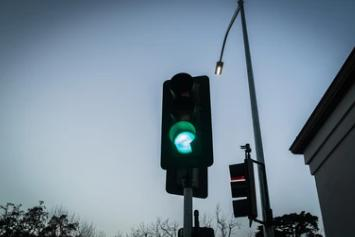green_light: (161, 73, 214, 169)
